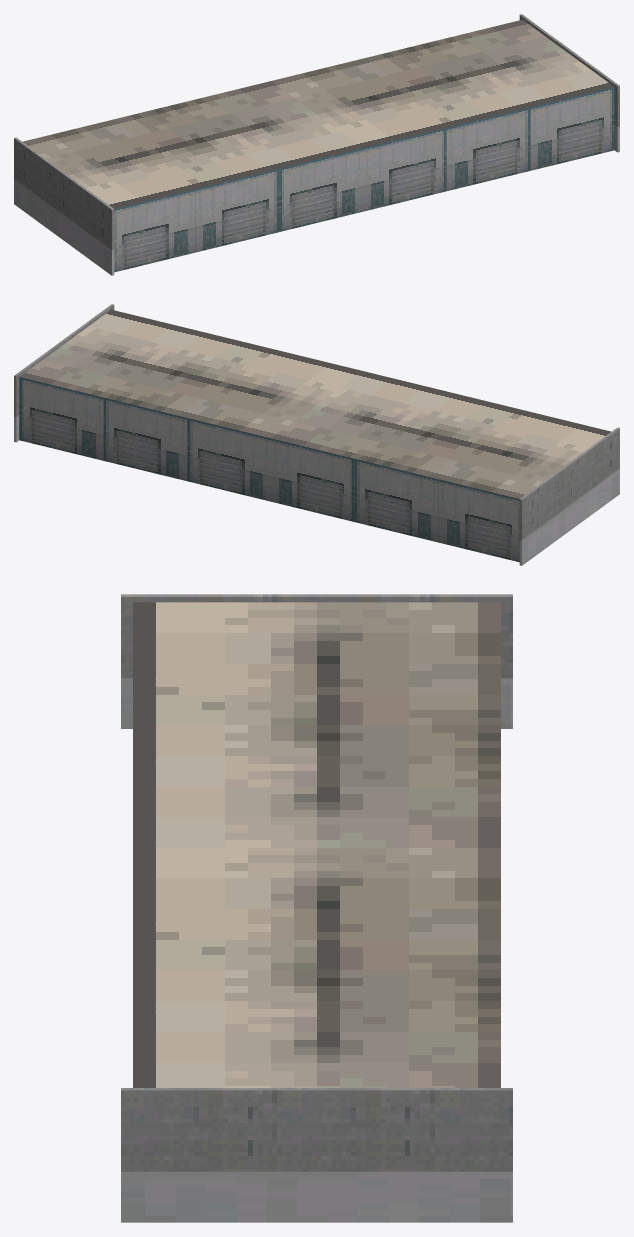
Rendered from lodhseing44.obj.
The picture shows the model from 3 angles, top to bottom: view 1: azimuth 30°, elevation 25°; view 2: azimuth 150°, elevation 25°; view 3: azimuth 270°, elevation 25°; orthographic projection. The views are drawn at different scales.
Visible parts, largest first — view 1: lodhseing44; view 2: lodhseing44; view 3: lodhseing44.
Boxes of the visible parts, left/top/right/bottom form: lodhseing44: left=14, top=14, right=619, bottom=275; lodhseing44: left=14, top=304, right=619, bottom=565; lodhseing44: left=121, top=594, right=512, bottom=1222.
Bounding box in the file's own units: 45.21 × 5.62 × 15.1.
3 materials, 3 textured.
